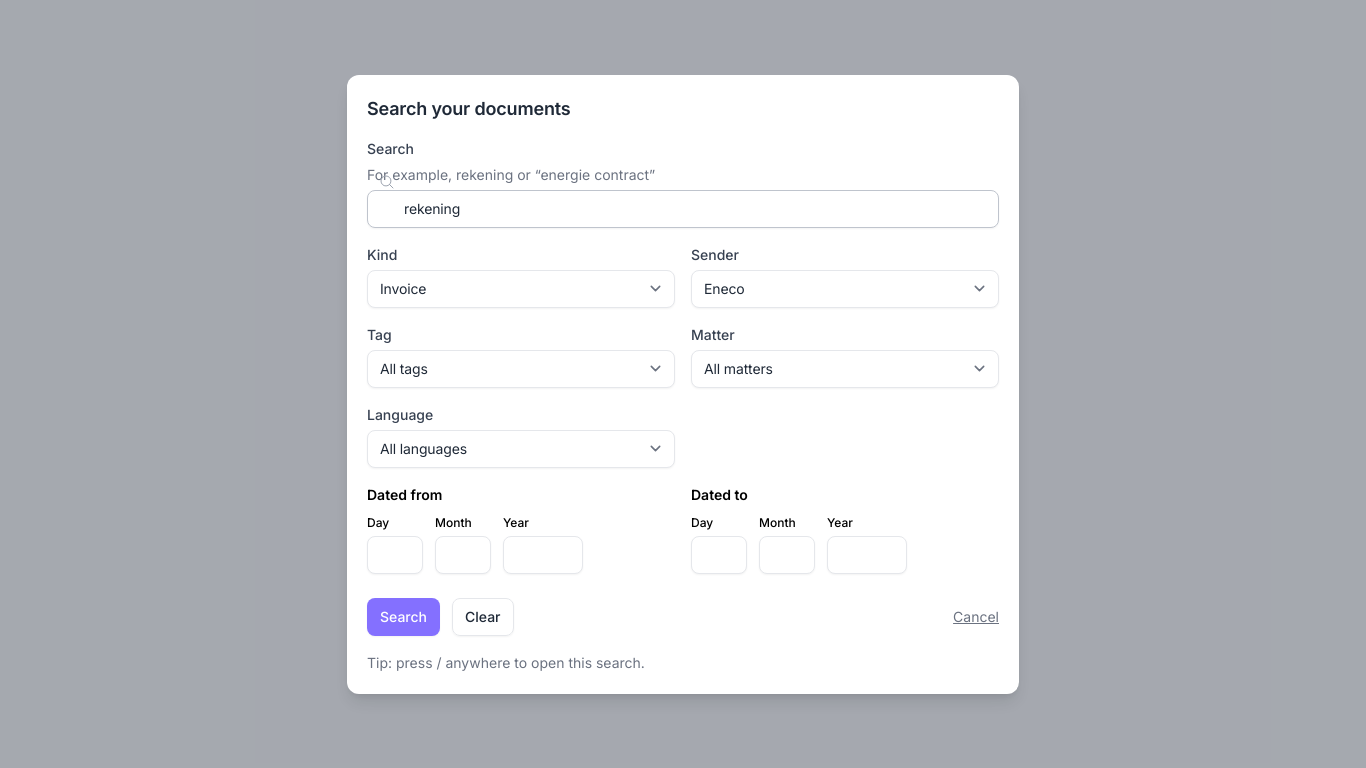
it: SearchModal › Clear empties every field without navigating or closing
Click the button with test id "modal-clear" at (483, 616), box [452,598,514,636]
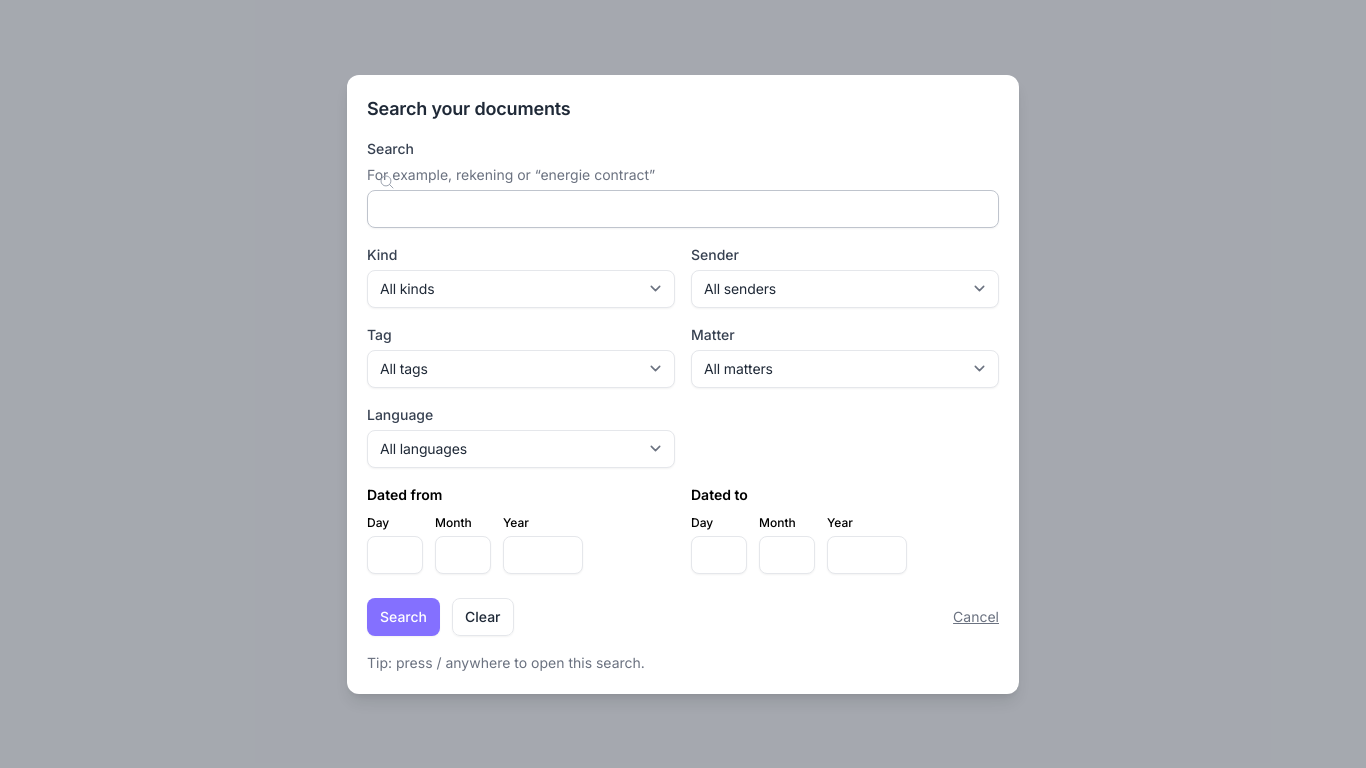
Check: the search field with id "search" is empty, box [367,190,999,228]
Check: the dropdown with id "filter-kind" shows "All kinds", box [367,270,675,308]
Check: the dropdown with id "filter-sender" shows "All senders", box [691,270,999,308]
